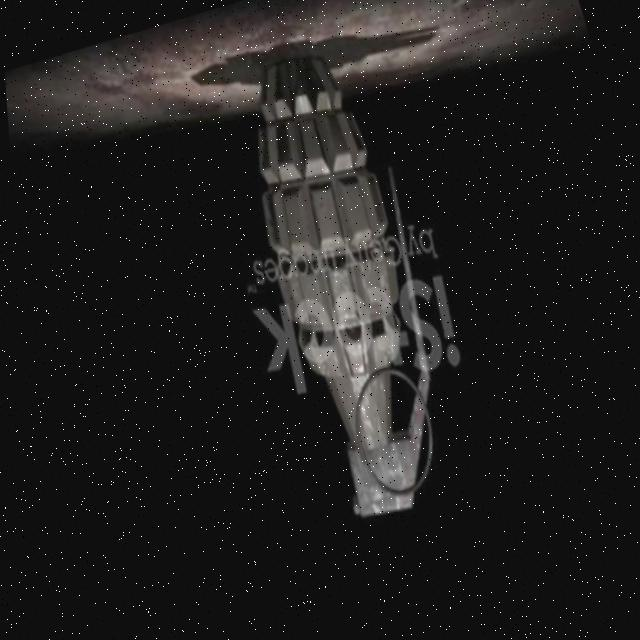grenade: (173, 17, 507, 548)
